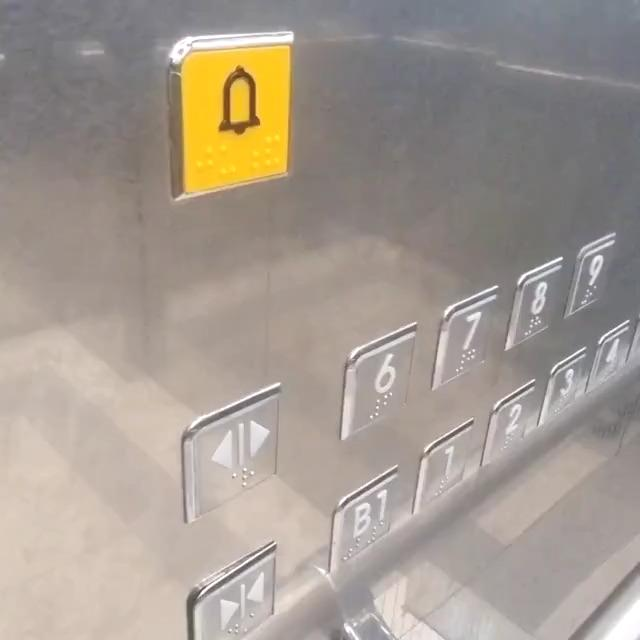button: (169, 38, 304, 191), (188, 550, 292, 640), (317, 470, 408, 562), (188, 415, 278, 508), (350, 348, 412, 448), (561, 233, 629, 313), (435, 288, 500, 371), (419, 427, 483, 504), (472, 388, 547, 446), (500, 265, 552, 342), (551, 353, 595, 409), (595, 321, 640, 375)
